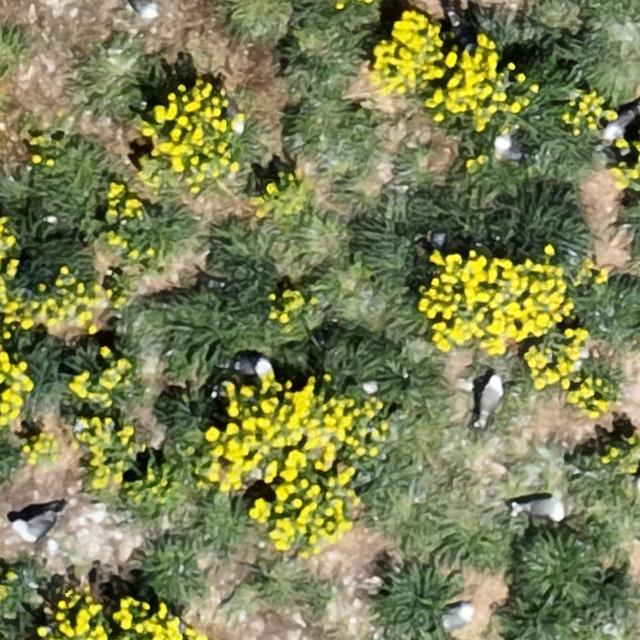umineko: (479, 378, 502, 420), (15, 512, 52, 538), (605, 110, 637, 138), (521, 498, 564, 518), (230, 358, 269, 377), (442, 604, 472, 628), (354, 379, 387, 400), (225, 101, 245, 135), (128, 1, 156, 20), (494, 140, 520, 160)
